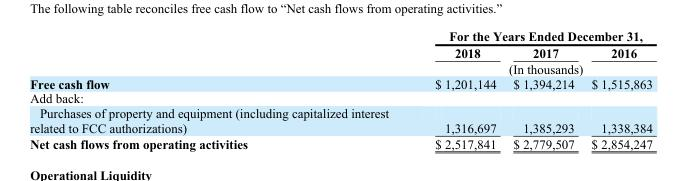table: (29, 28, 651, 150)
table column: (29, 28, 411, 150), (411, 28, 504, 150), (504, 28, 582, 150), (582, 28, 651, 150)
table column header: (29, 28, 651, 75)
table projected row header: (29, 90, 651, 105)
table row: (29, 105, 651, 135), (29, 28, 651, 44), (29, 44, 651, 60), (29, 60, 651, 75), (29, 75, 651, 90), (29, 90, 651, 105), (29, 135, 651, 150)
table spanning cell: (411, 28, 651, 44), (411, 60, 651, 75)
